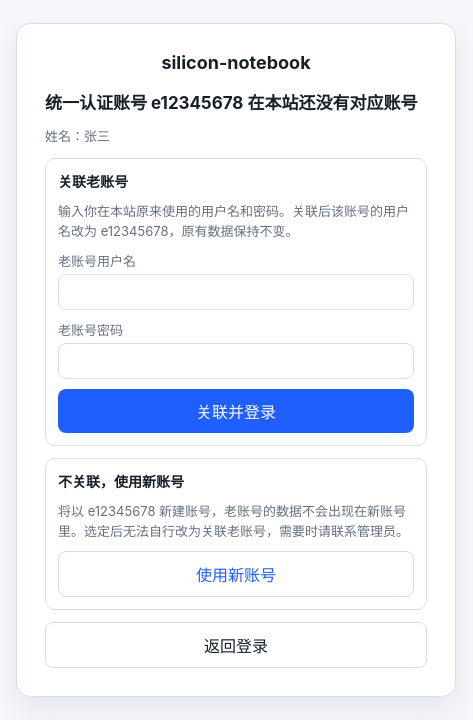
link: a voided choice (410) shows the backend text, locks link and create, leaves only return to login
Type "a12345678" into the field labelled "老账号用户名" at (236, 292), box [58, 274, 414, 310]
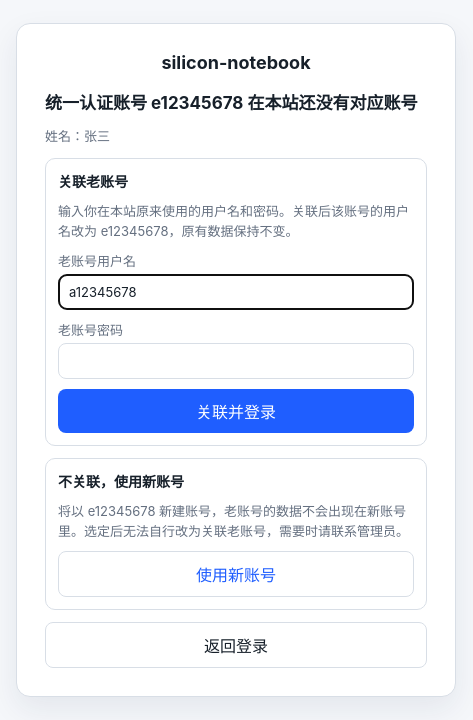
Type "pw" into the password field labelled "老账号密码" at (236, 361), box [58, 343, 414, 379]
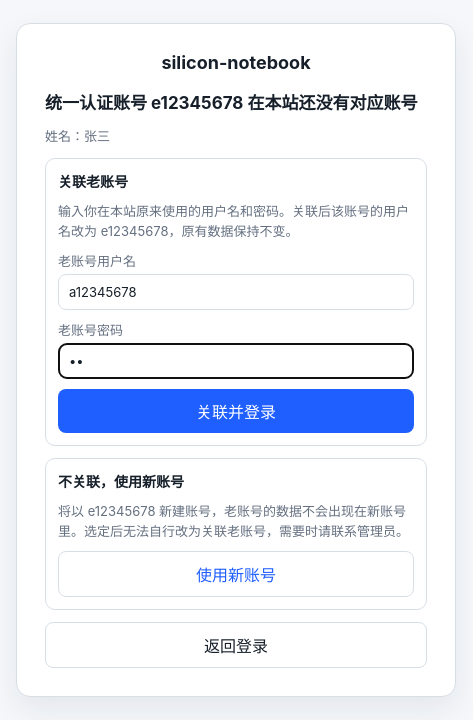
Click the button "关联并登录" at (236, 411), box [58, 389, 414, 433]
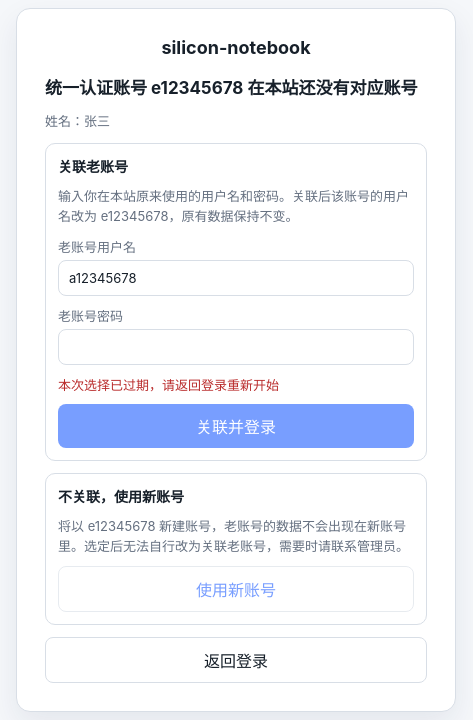
Expected: the form "关联老账号" shows "本次选择已过期，请返回登录重新开始", [58, 377, 279, 393]
Expected: the button "关联并登录" is disabled, [58, 404, 414, 448]
Expected: the button "使用新账号" is disabled, [58, 566, 414, 612]
